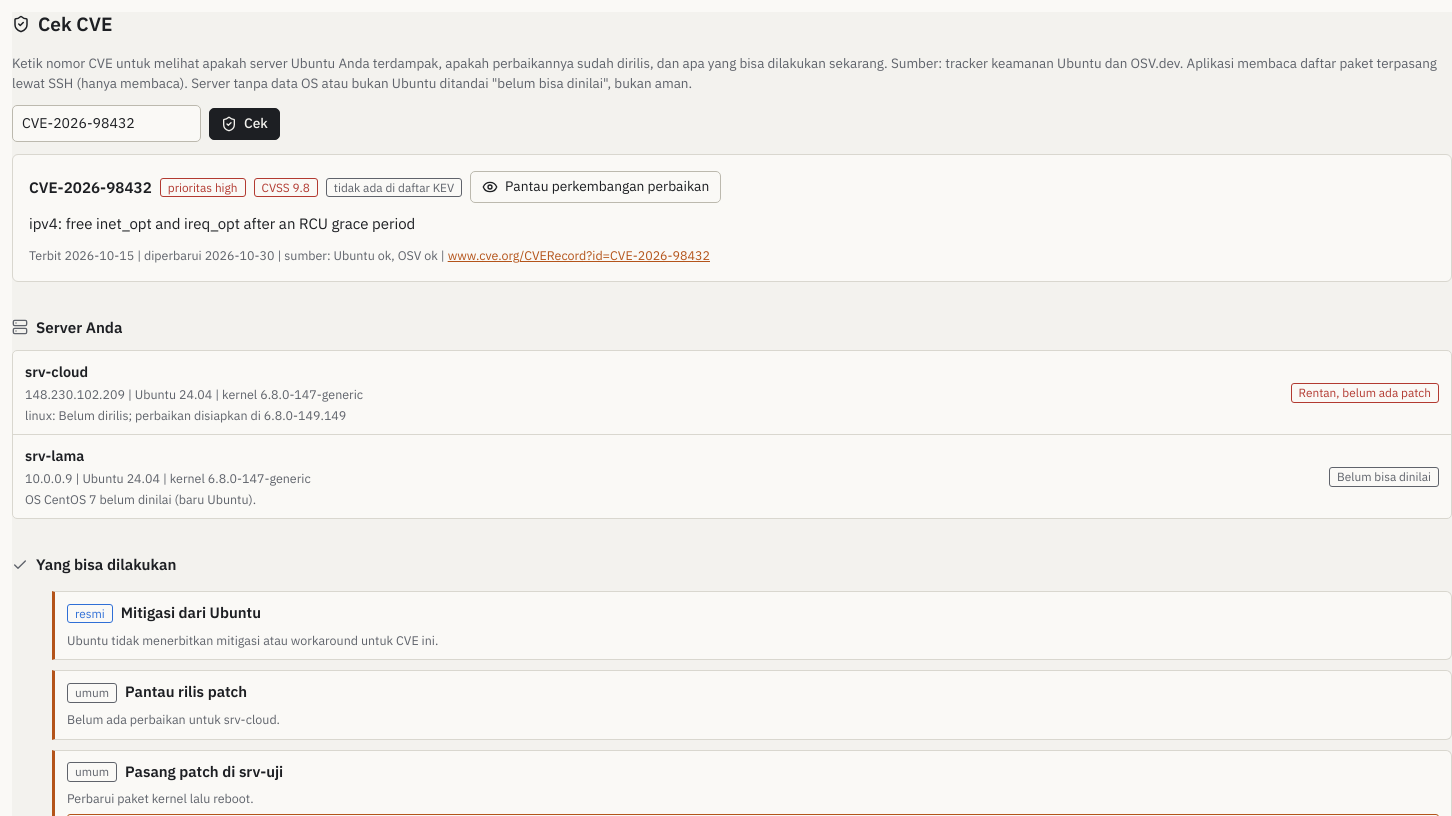
it: halaman Cek CVE › Pantau mengirim permintaan lalu tombolnya berganti; CVE yang sudah dipantau bisa dihentikan
Click the button "Pantau perkembangan perbaikan" at {"x": 596, "y": 187}, box left=470, top=172, right=721, bottom=203
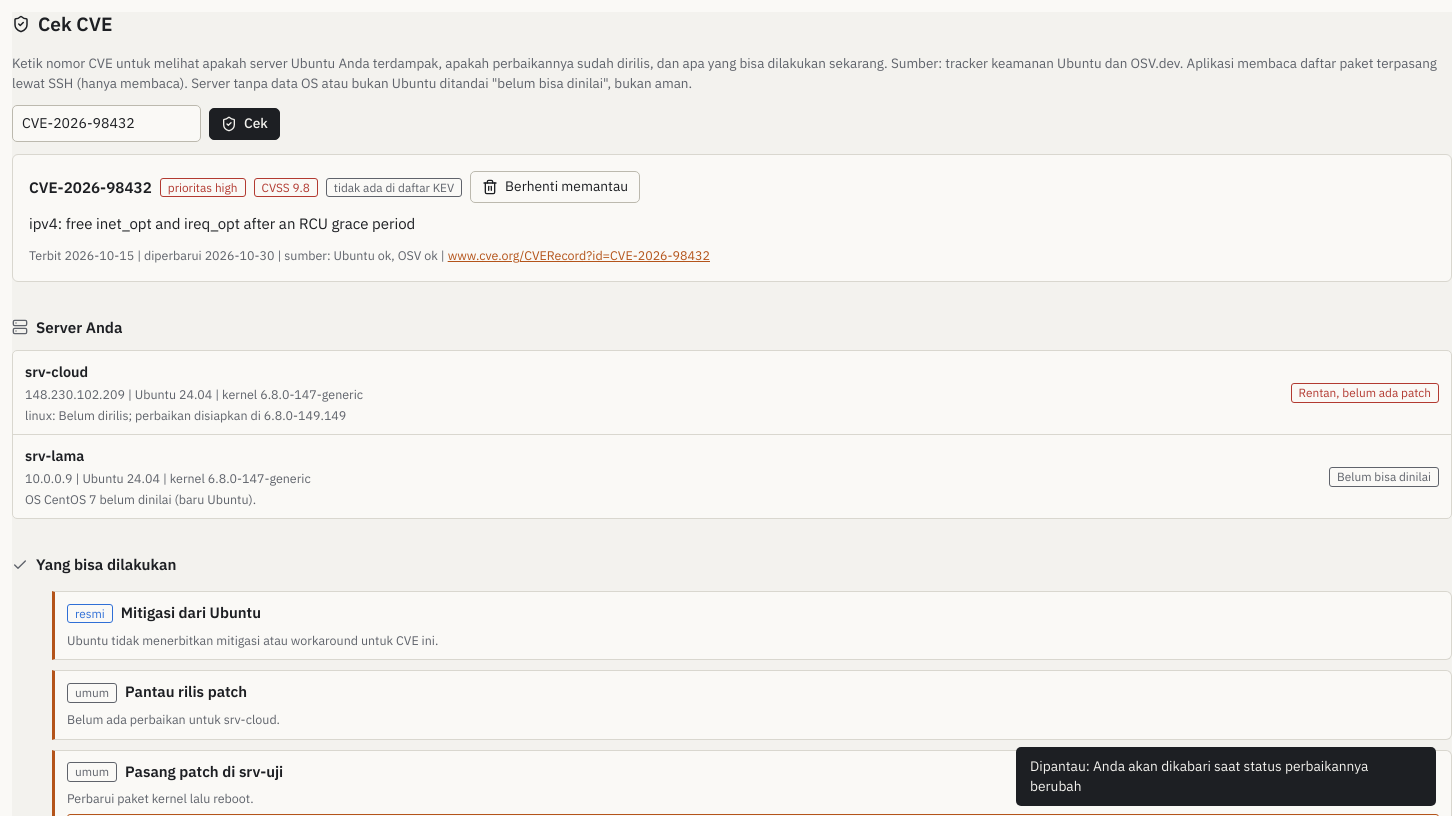
Check: the button "Berhenti memantau" is shown
Click the button "Berhenti memantau" at {"x": 555, "y": 187}, box left=470, top=172, right=640, bottom=203
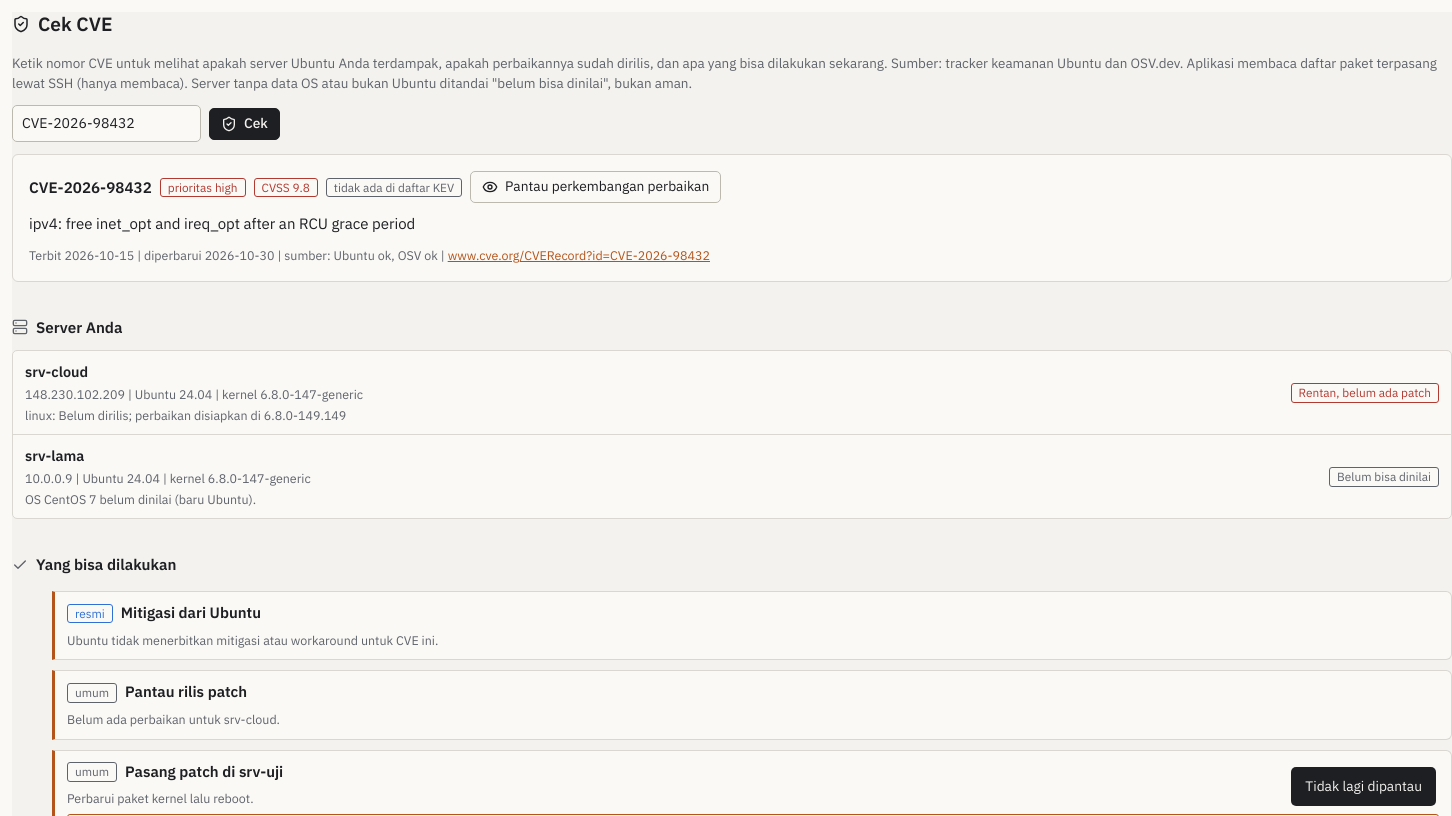
Check: the button "Pantau perkembangan perbaikan" is shown, box left=470, top=172, right=721, bottom=203
